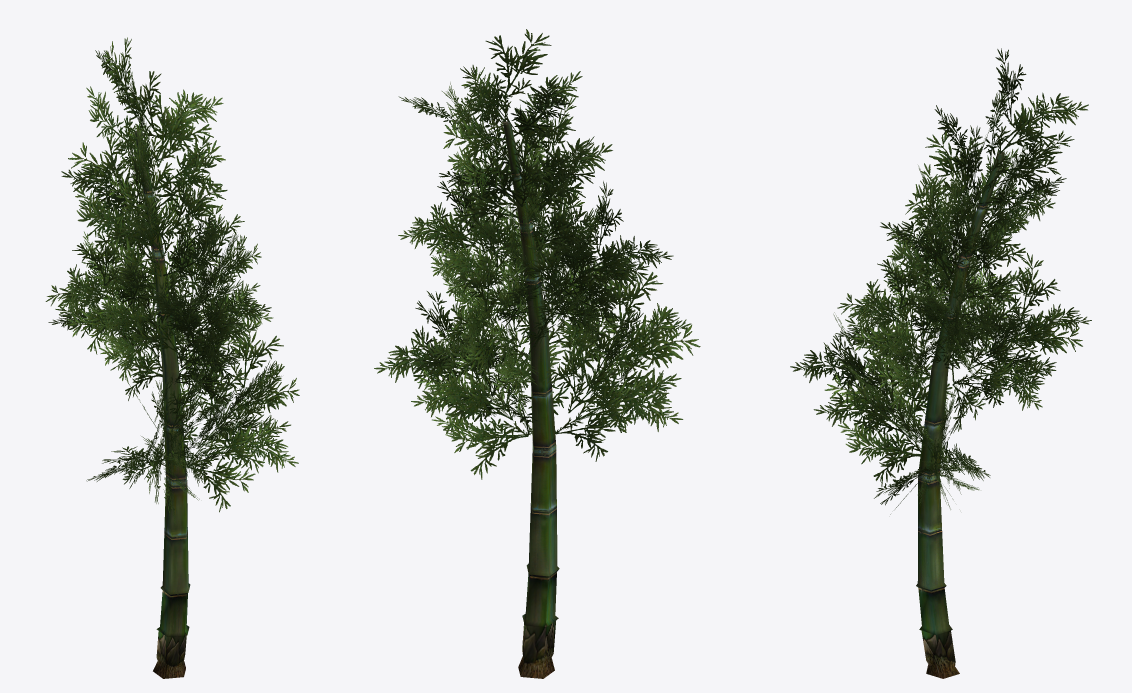
Rendered from qys_zhuzi02.FBX.
The picture shows the model from 3 angles, left to right: view 1: azimuth 30°, elevation 25°; view 2: azimuth 150°, elevation 25°; view 3: azimuth 270°, elevation 25°; orthographic projection. The views are drawn at different scales.
Visible parts, largest first — view 1: objobjObject424, objobjCylinder01; view 2: objobjObject424, objobjCylinder01; view 3: objobjObject424, objobjCylinder01.
Part boxes in pixels (x1,y1,x2,y2): objobjObject424: (45,37,299,525); objobjCylinder01: (134,130,190,678); objobjObject424: (374,29,700,479); objobjCylinder01: (502,121,559,678); objobjObject424: (790,48,1091,514); objobjCylinder01: (916,151,1004,678).
Bounding box in the file's own units: 712 × 1418 × 711.
